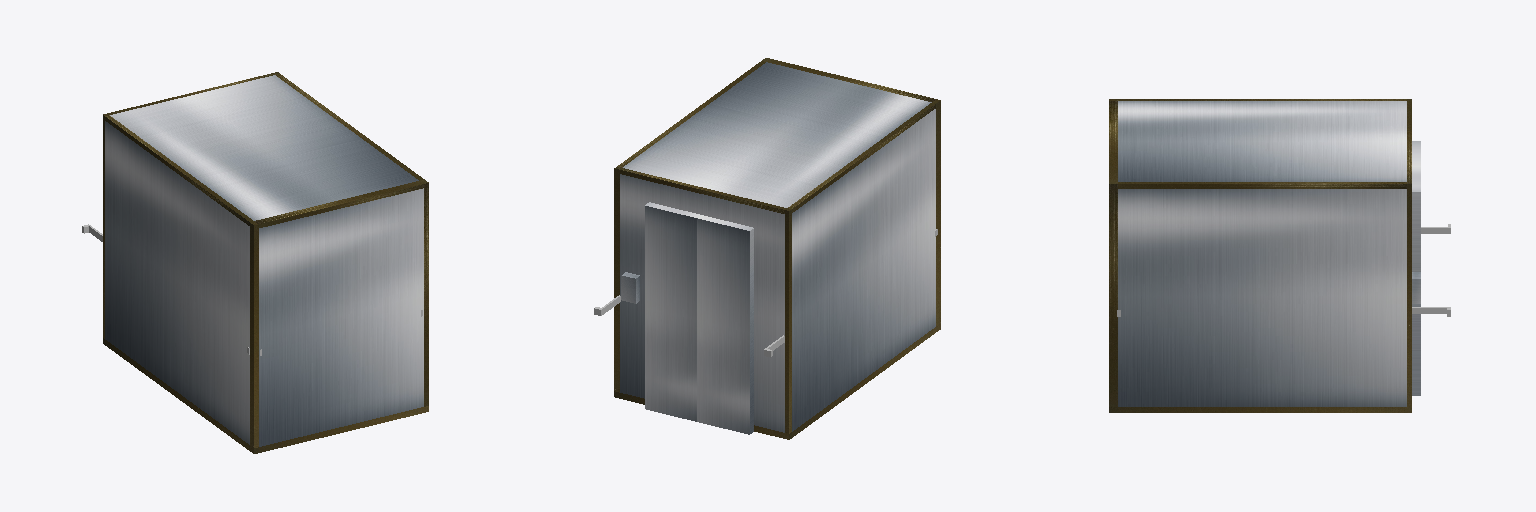
The picture shows the model from 3 angles: view 1: azimuth 30°, elevation 25°; view 2: azimuth 150°, elevation 25°; view 3: azimuth 270°, elevation 25°; orthographic projection.
Parts seen in each view (by area): view 1: 2x3x2,5; view 2: 2x3x2,5, Cube.001_Cube.007; view 3: 2x3x2,5.
Part boxes in pixels (x1,y1,x2,y2): 2x3x2,5: (103,72,428,453); 2x3x2,5: (614,58,940,439); Cube.001_Cube.007: (621,272,639,303); 2x3x2,5: (1109,99,1420,412).
Bounding box in the file's own units: 2.02 × 2.5 × 3.39.
Materials: 18 (4 with a texture image).